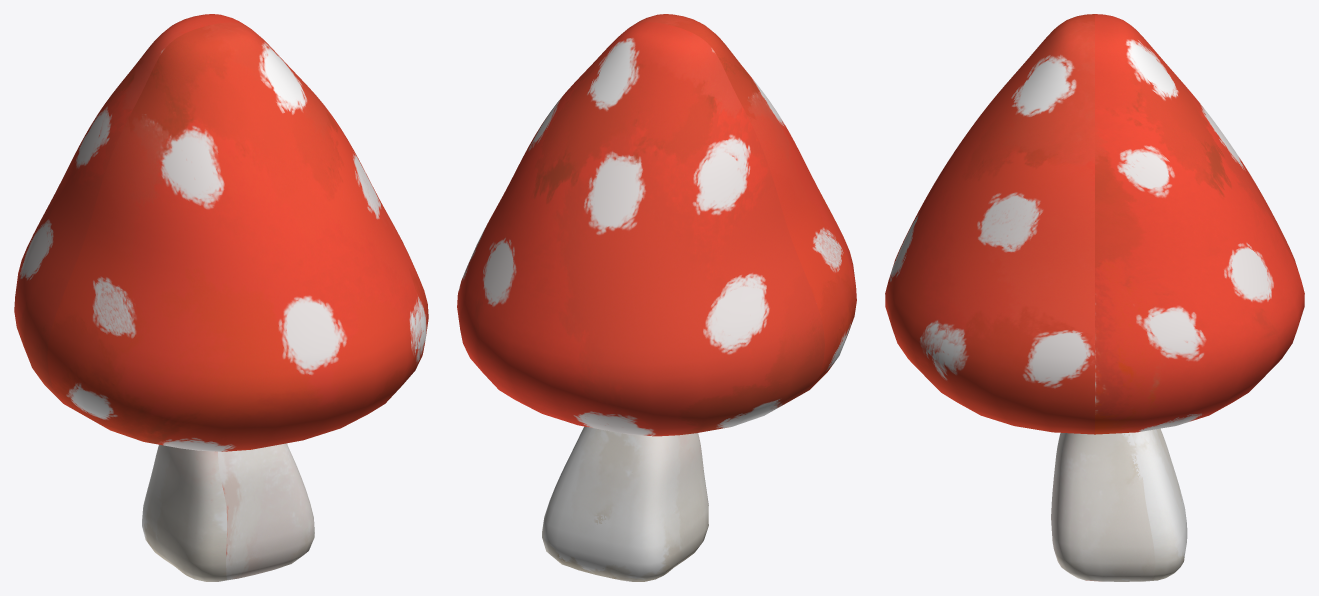
File: mushroomModel.glb
3 renders of one model, left to right at view 1: azimuth 30°, elevation 25°; view 2: azimuth 150°, elevation 25°; view 3: azimuth 270°, elevation 25°, orthographic. The views are drawn at different scales.
Visible parts, largest first — view 1: HEAD.001; view 2: HEAD.001; view 3: HEAD.001.
Part boxes in pixels (x1,y1,x2,y2): HEAD.001: [14, 14, 428, 581]; HEAD.001: [457, 14, 856, 581]; HEAD.001: [885, 14, 1304, 581].
Bounding box in the file's own units: 0.6917 × 1.06 × 0.762.
Materials: 1 (1 with a texture image).
